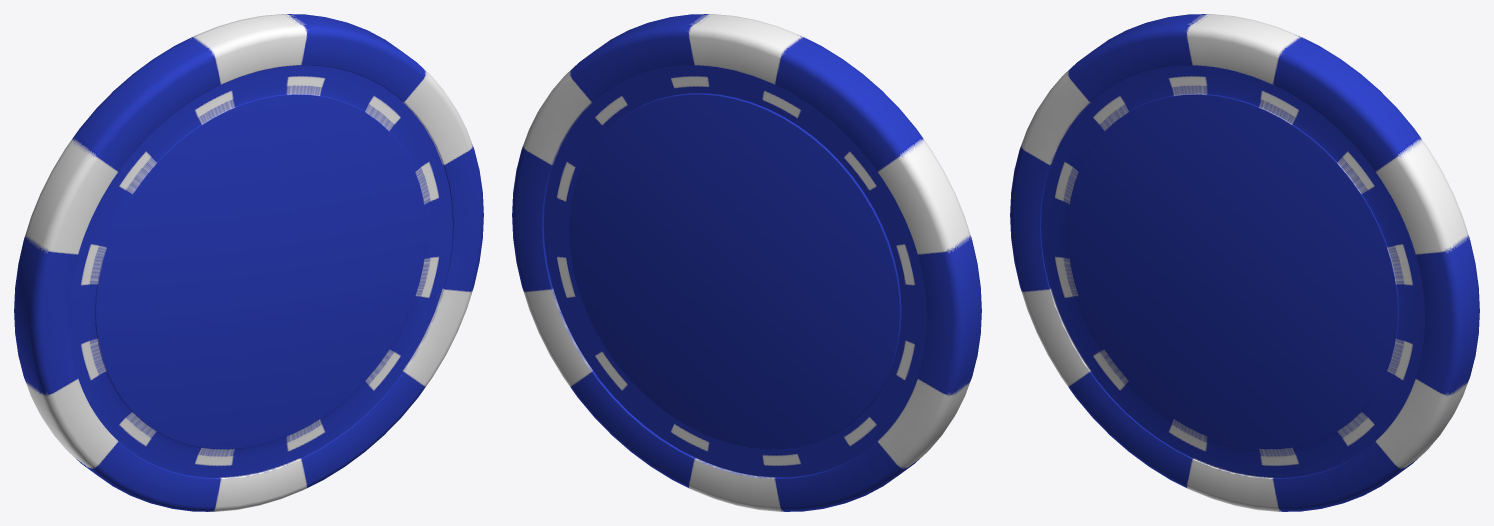
File: blue_white.glb
The picture shows the model from 3 angles, left to right: view 1: azimuth 30°, elevation 25°; view 2: azimuth 150°, elevation 25°; view 3: azimuth 330°, elevation 25°; orthographic projection.
Parts seen in each view (by area): view 1: chips.463_chips_blue_bake_0; view 2: chips.463_chips_blue_bake_0; view 3: chips.463_chips_blue_bake_0.
Boxes of the visible parts, left/top/right/bottom form: chips.463_chips_blue_bake_0: left=14, top=14, right=483, bottom=511; chips.463_chips_blue_bake_0: left=512, top=14, right=981, bottom=511; chips.463_chips_blue_bake_0: left=1010, top=14, right=1479, bottom=511.
Size of the model in its own units: 2 by 2 by 0.1882.
Materials: 1 (1 with a texture image).
